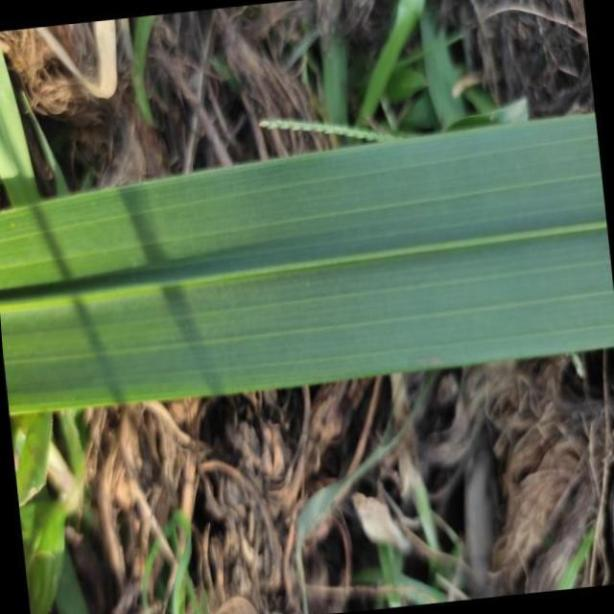Healthy: (0, 109, 614, 416)
